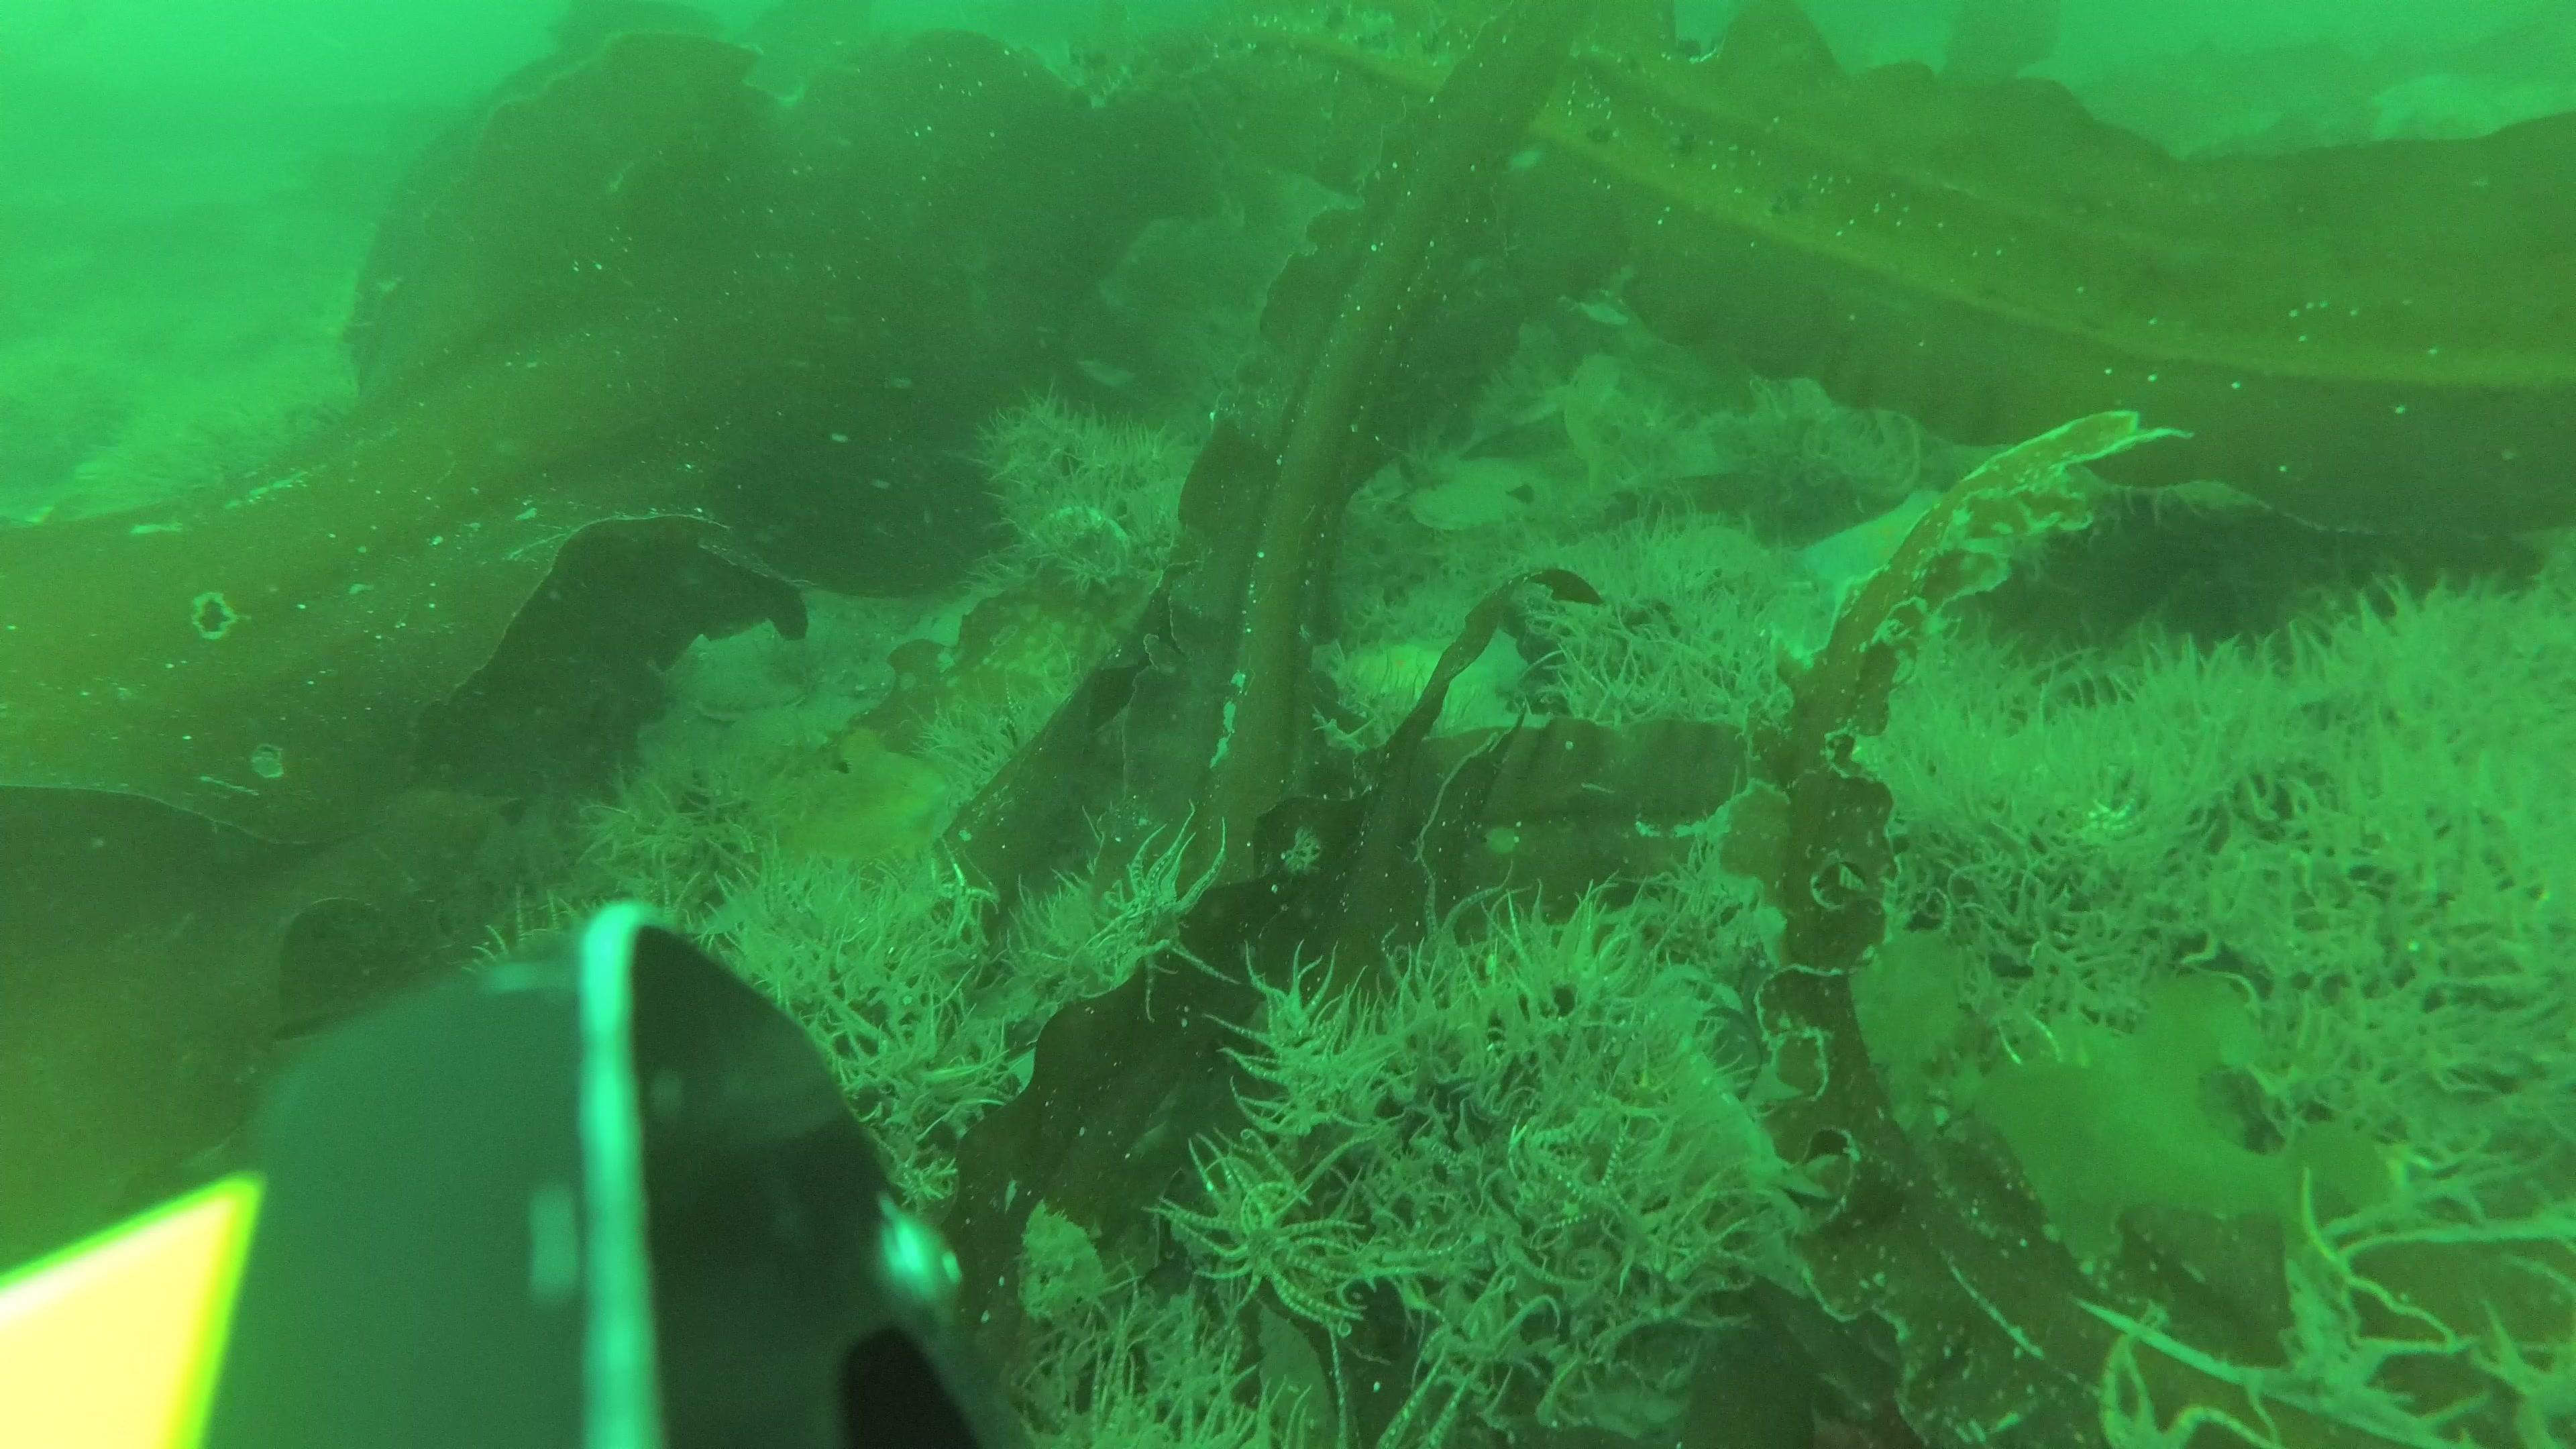starfish: (1815, 487, 1999, 632)
